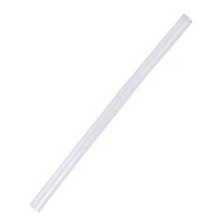drinking_straw: (25, 9, 197, 216)
